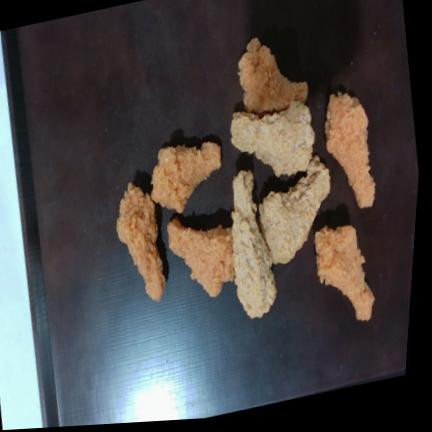chicken: (259, 156, 330, 263), (232, 170, 276, 318), (231, 101, 314, 176), (325, 92, 375, 208), (117, 183, 166, 301), (315, 225, 374, 320), (238, 38, 307, 116), (167, 218, 234, 296), (151, 142, 221, 212)
